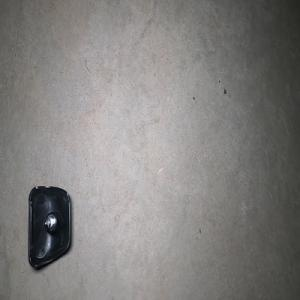LuggagePart: (27, 184, 72, 270)
